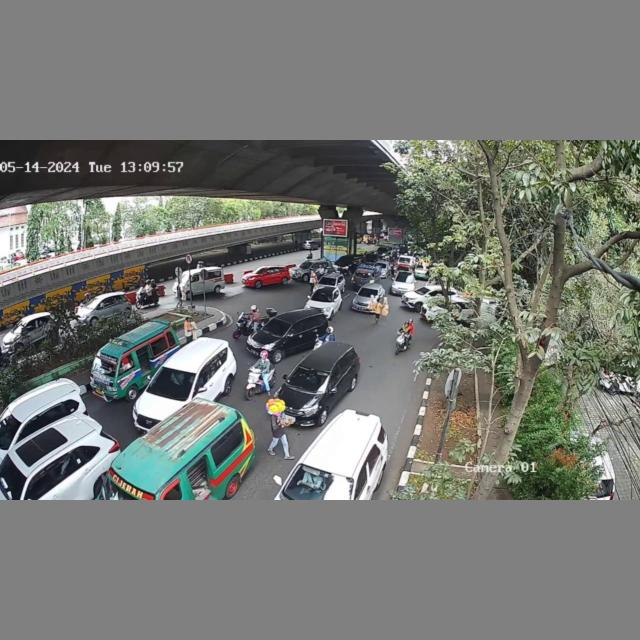windshield: (288, 466, 352, 499), (148, 368, 193, 397), (287, 364, 331, 390)
